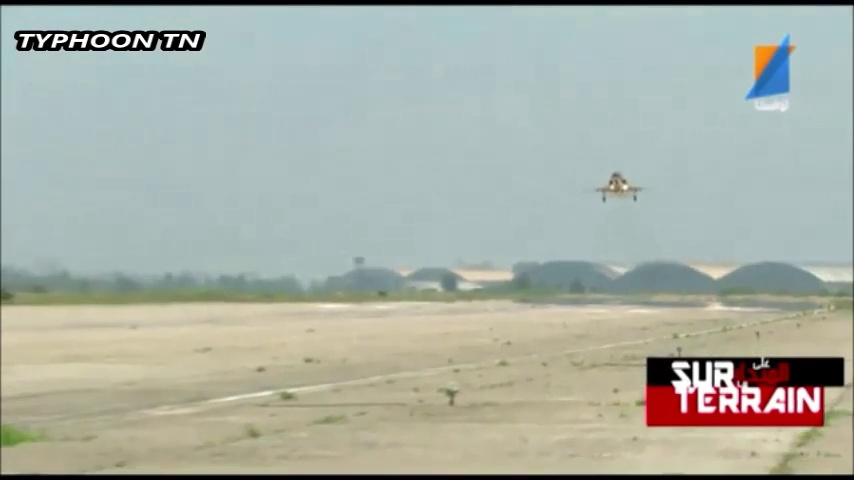Airplane: (589, 171, 648, 205)
